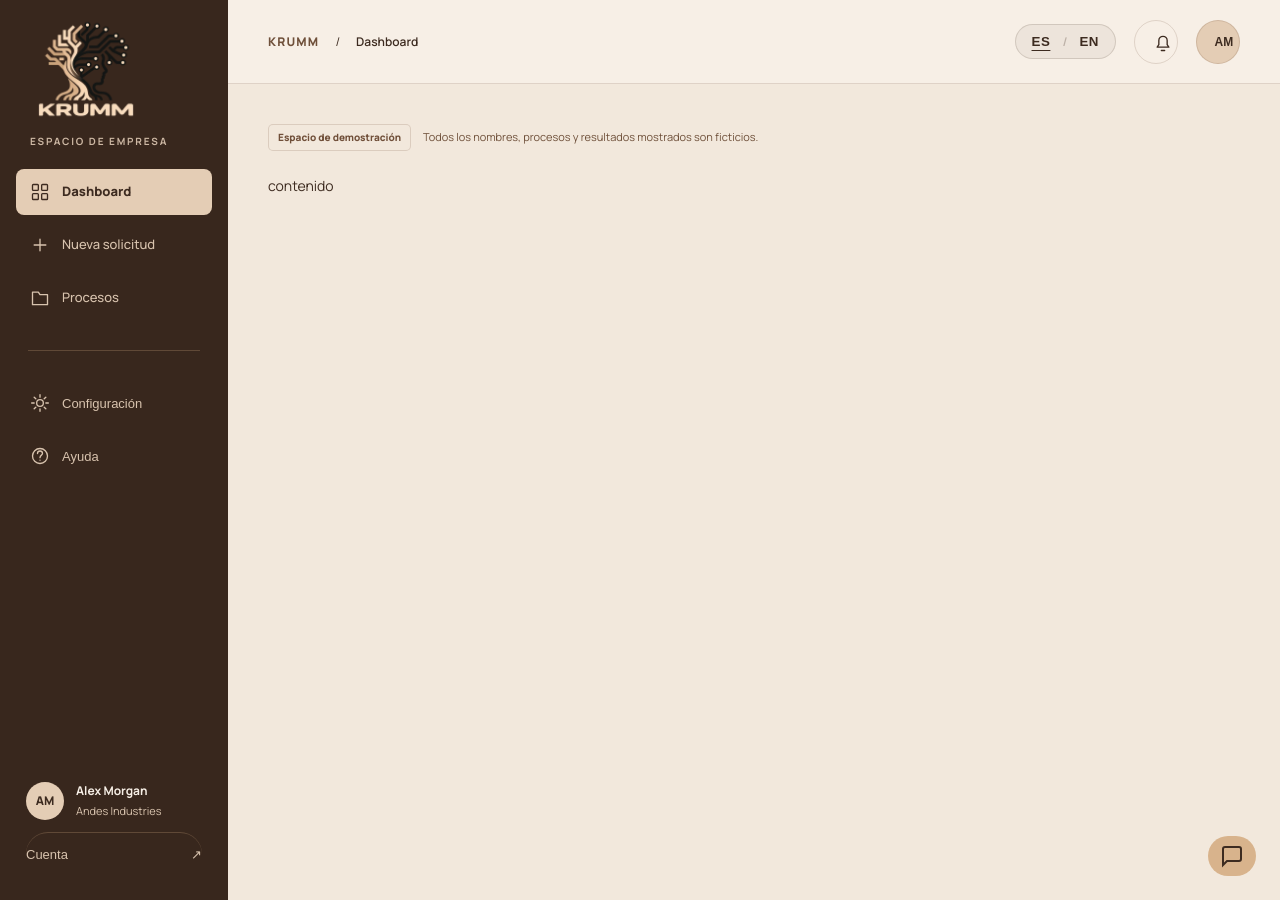
Test: CompanyShell (ref company.html) › i18n: click EN traduce nav, banner y user chip
Click the button "EN" at (1089, 42), box 1069,28 -> 1109,55
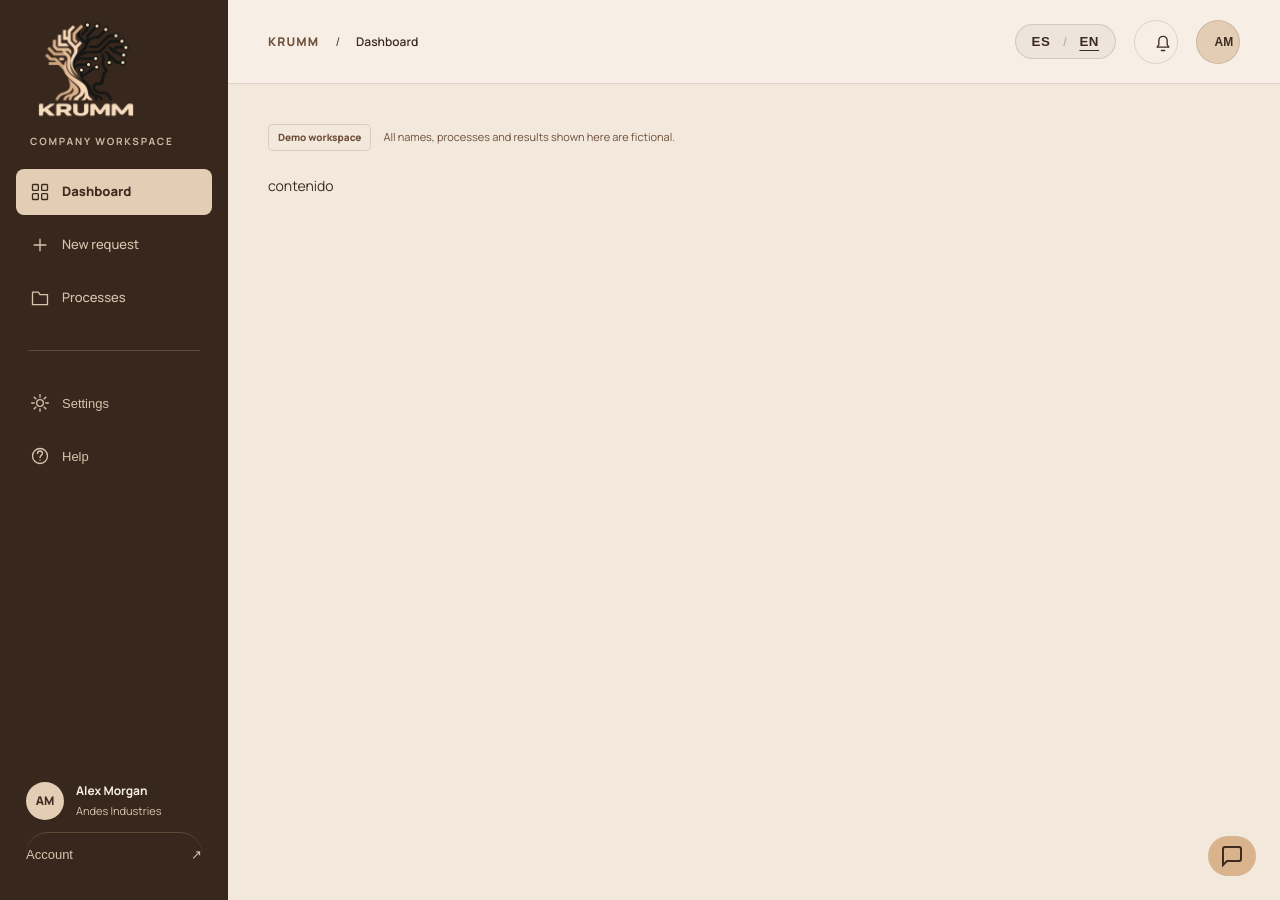
Check: the link "New request" is shown, box 30,235 -> 139,255
Check: the text "Demo workspace" is shown, box 268,124 -> 371,151
Check: the text "All names, processes and results shown here are fictional." is shown, box 383,129 -> 675,146
